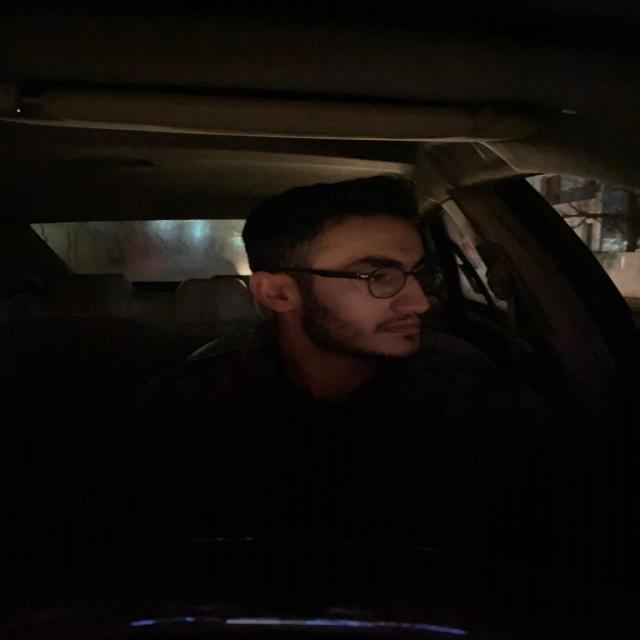LeftRight: (237, 168, 458, 370)
